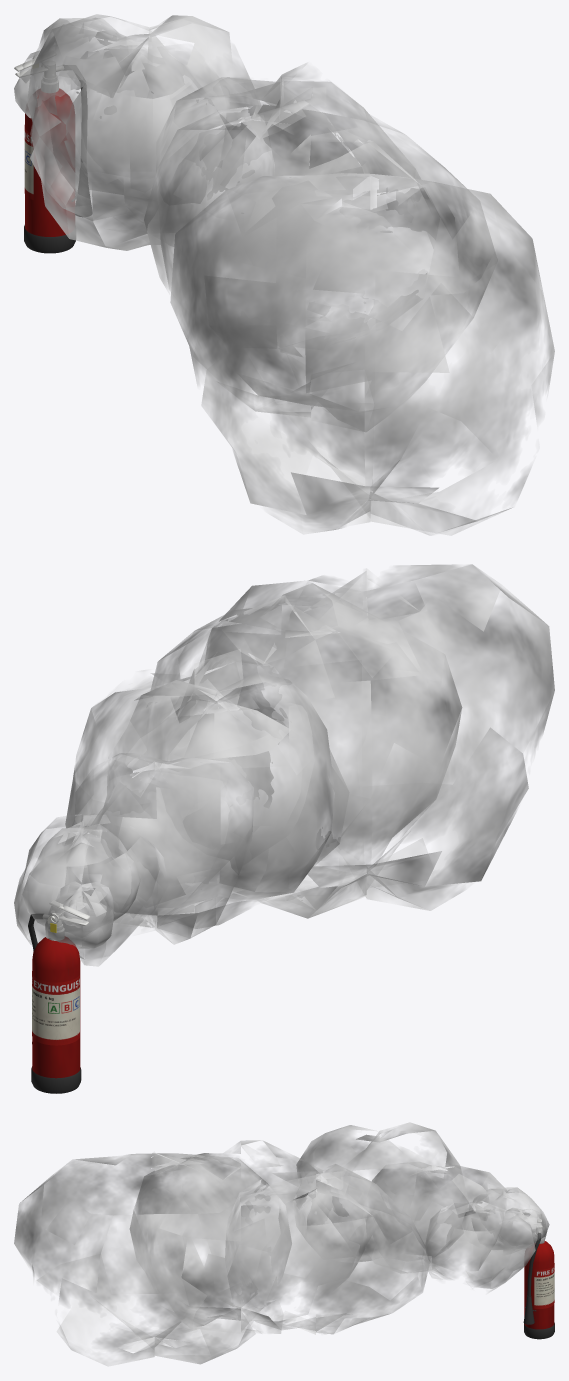
Rendered from fire_extinguisher.glb.
3 views of the same model, one above another, from view 1: azimuth 30°, elevation 25°; view 2: azimuth 150°, elevation 25°; view 3: azimuth 270°, elevation 25° (orthographic). The views are drawn at different scales.
Visible parts, largest first — view 1: FireExtinguisher_Cloud_plume, FireExtinguisher_Clean_body, FireExtinguisher_Clean_foot, FireExtinguisher_Clean_valve, FireExtinguisher_Clean_label; view 2: FireExtinguisher_Cloud_plume, FireExtinguisher_Clean_body, FireExtinguisher_Clean_label, FireExtinguisher_Clean_foot, FireExtinguisher_Clean_valve; view 3: FireExtinguisher_Cloud_plume, FireExtinguisher_Clean_body, FireExtinguisher_Clean_label, FireExtinguisher_Clean_foot.
Part boxes in pixels (<box>): FireExtinguisher_Cloud_plume: <box>14,14,554,535</box>; FireExtinguisher_Clean_body: <box>25,88,74,236</box>; FireExtinguisher_Clean_foot: <box>24,225,75,253</box>; FireExtinguisher_Clean_valve: <box>14,57,63,92</box>; FireExtinguisher_Clean_label: <box>24,125,33,199</box>; FireExtinguisher_Cloud_plume: <box>14,564,554,966</box>; FireExtinguisher_Clean_body: <box>32,937,80,1078</box>; FireExtinguisher_Clean_label: <box>32,971,79,1045</box>; FireExtinguisher_Clean_foot: <box>31,1066,81,1093</box>; FireExtinguisher_Clean_valve: <box>43,900,90,940</box>; FireExtinguisher_Cloud_plume: <box>14,1122,549,1366</box>; FireExtinguisher_Clean_body: <box>524,1241,554,1329</box>; FireExtinguisher_Clean_label: <box>534,1263,554,1308</box>; FireExtinguisher_Clean_foot: <box>524,1322,554,1339</box>.
Size of the model in its own units: 1.07 by 1.23 by 2.74.
Materials: 7 (3 with a texture image).
